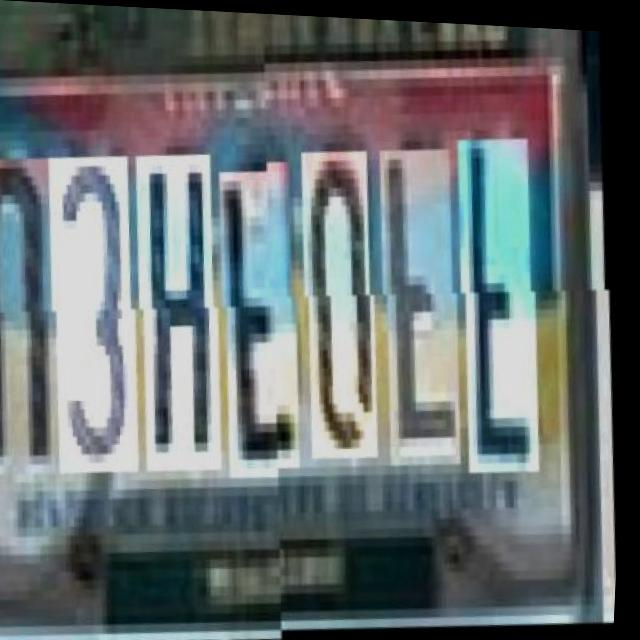0: (303, 152, 395, 464)
3: (51, 145, 156, 468)
f: (458, 139, 558, 478), (380, 149, 479, 471), (221, 162, 316, 474)
h: (137, 144, 238, 467)
u: (0, 149, 77, 471)
